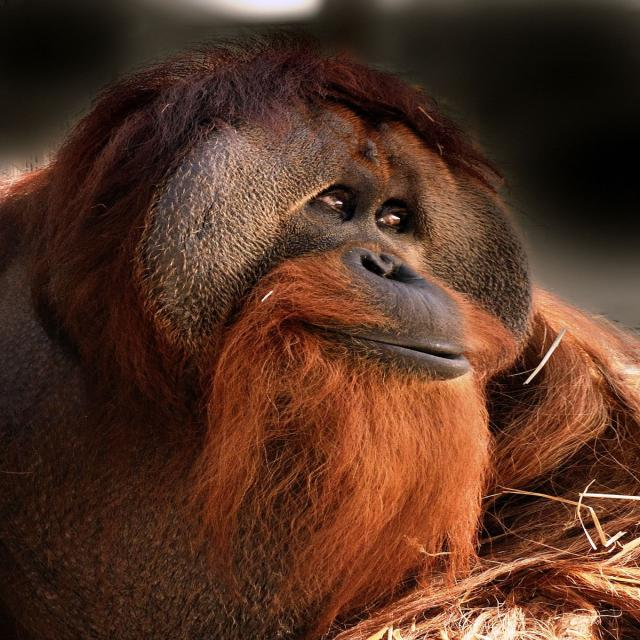Orangutan: (0, 28, 640, 640)
